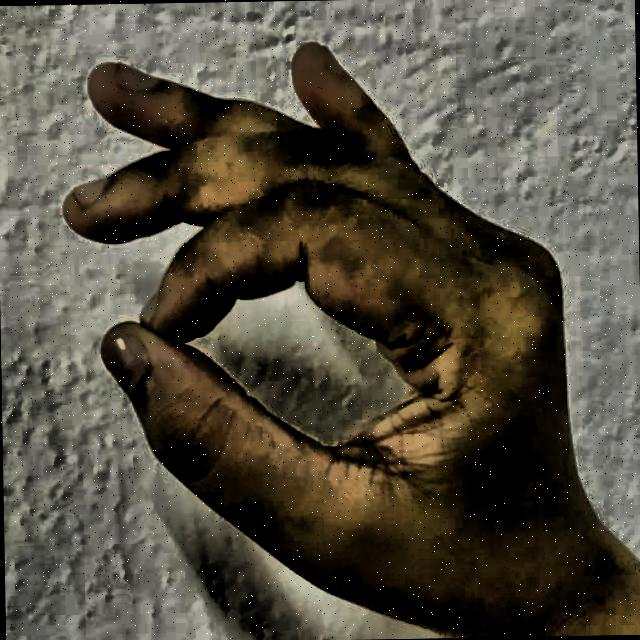Yo: (41, 13, 614, 638)
